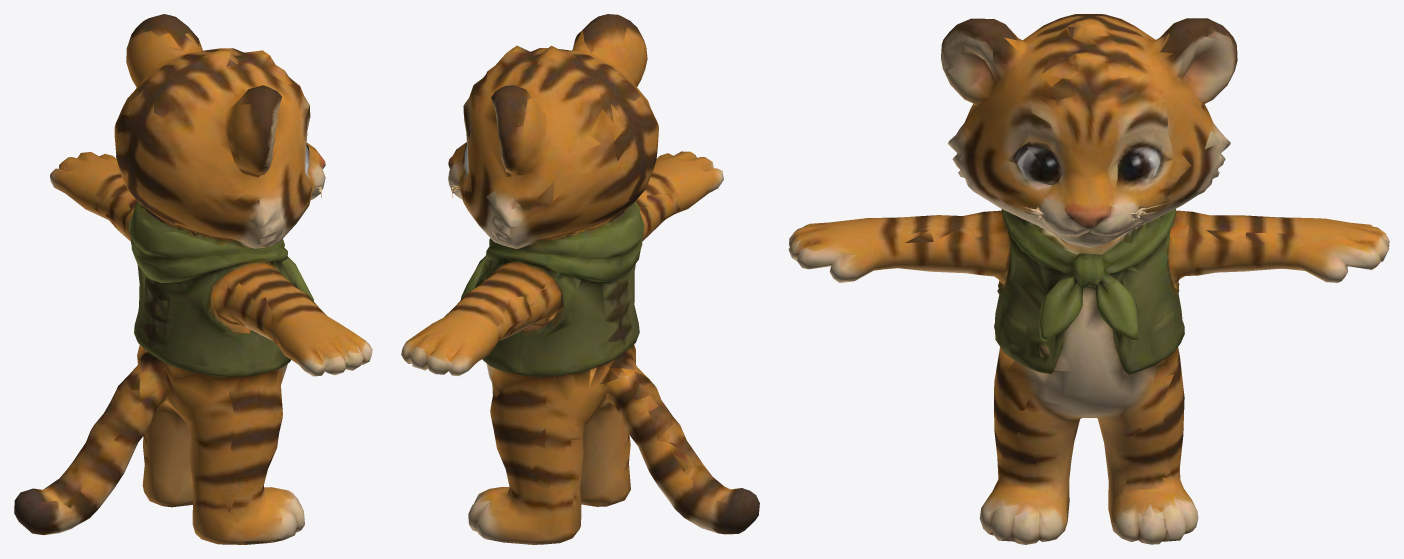
The model's file is tiger-courier-tpose-retopo-5k-runtime.glb.
The picture shows the model from 3 angles, left to right: view 1: azimuth 30°, elevation 25°; view 2: azimuth 150°, elevation 25°; view 3: azimuth 270°, elevation 25°; orthographic projection. The views are drawn at different scales.
Visible parts, largest first — view 1: tiger_courier_lod_5k; view 2: tiger_courier_lod_5k; view 3: tiger_courier_lod_5k.
Boxes of the visible parts, bbox=[...] form: tiger_courier_lod_5k: bbox=[14, 14, 372, 544]; tiger_courier_lod_5k: bbox=[401, 14, 759, 544]; tiger_courier_lod_5k: bbox=[788, 14, 1389, 544].
Bounding box in the file's own units: 0.208 × 0.2995 × 0.3266.
1 material, 1 textured.
